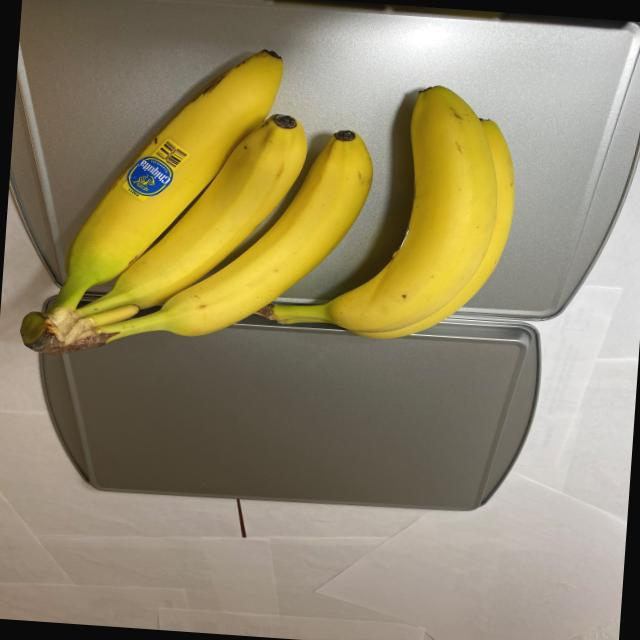banana: (12, 30, 530, 387)
